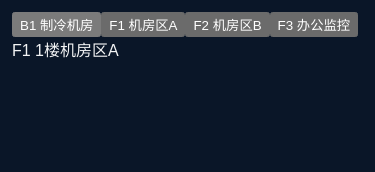
it: FloorLayoutSelector 楼层选择器组件 › 点击 B1 按钮切换到 B1 楼层
The image size is (375, 172).
Click the button with test id "floor-btn-B1". click: x=57, y=24
box: [12, 12, 101, 37]
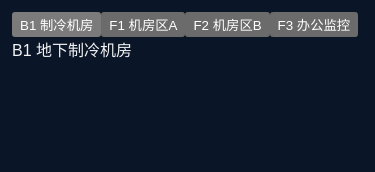
Now the text "B1 地下制冷机房" is shown, box [12, 42, 132, 59]
